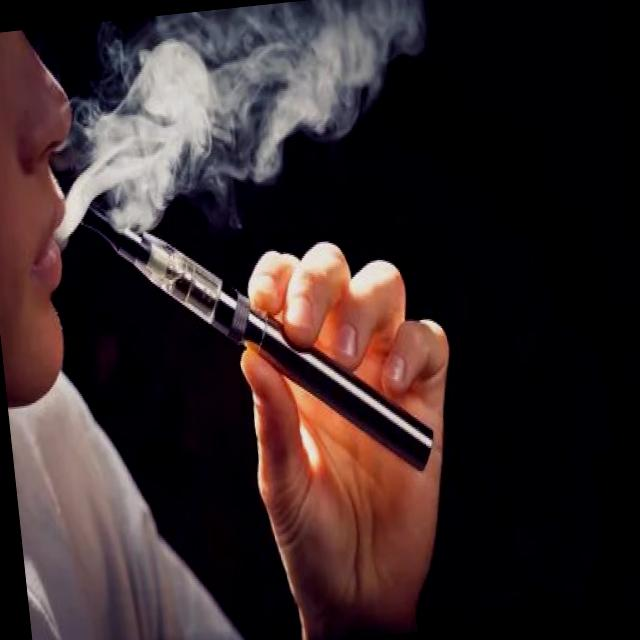cigarette: (73, 156, 440, 507)
